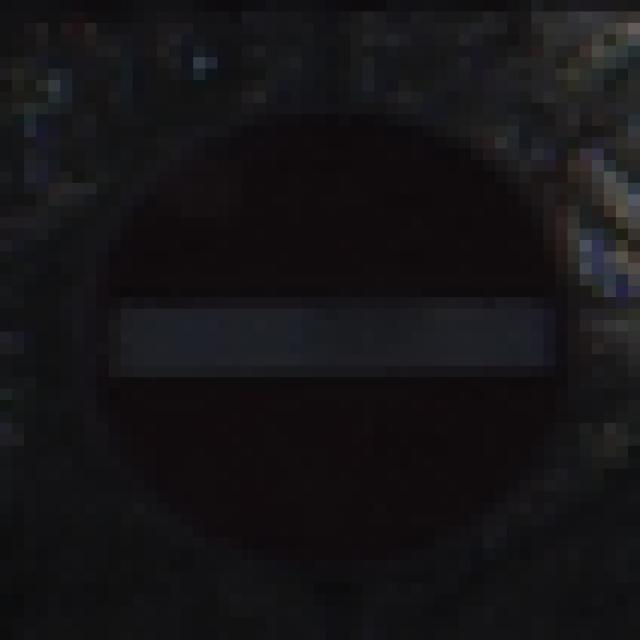No Entry: (74, 69, 581, 584)
